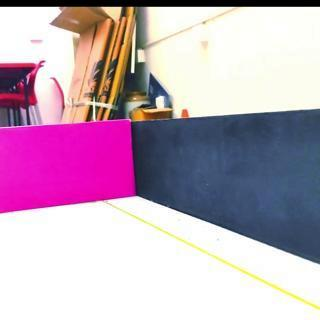xparking: (2, 128, 134, 209)
